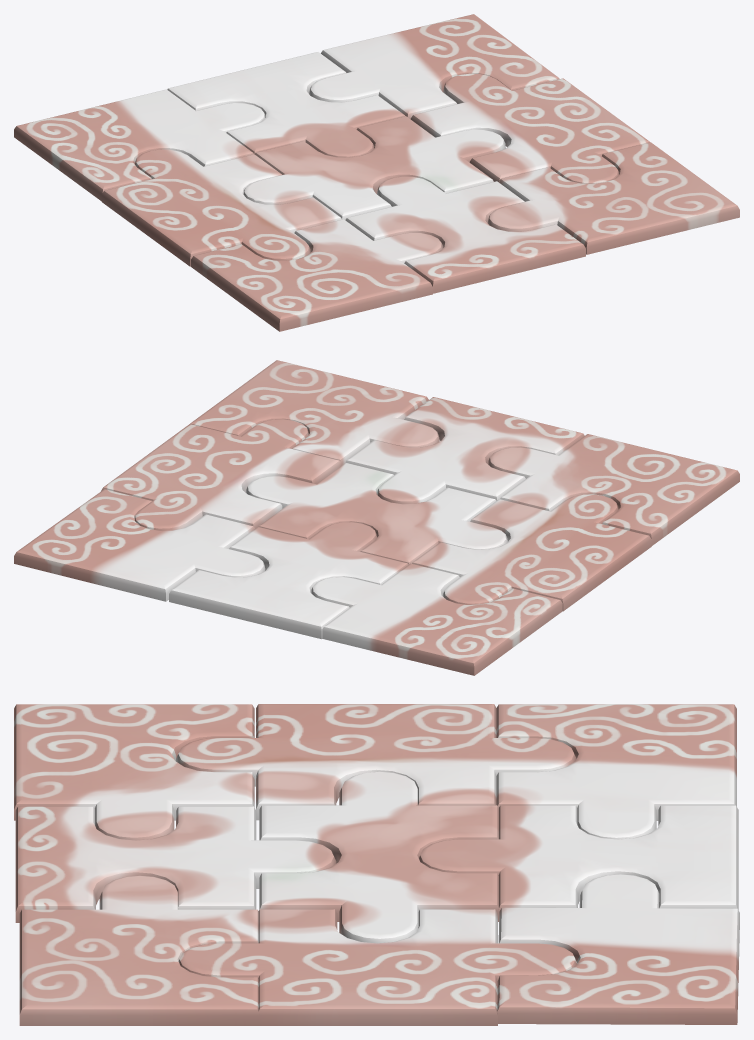
File: puzzle.glb
3 views of the same model, one above another, from view 1: azimuth 30°, elevation 25°; view 2: azimuth 150°, elevation 25°; view 3: azimuth 270°, elevation 25° (orthographic). The views are drawn at different scales.
Visible parts, largest first — view 1: bottomleft, midleft, bottomright, midright, topleft, bottommid, midmid, topright, topmid; view 2: topleft, midleft, topright, midright, bottomleft, topmid, bottomright, midmid, bottommid; view 3: midright, topright, bottomright, midleft, midmid, bottomleft, topleft, bottommid, topmid.
Part boxes in pixels (left/top/right/bottom): bottomleft: left=191, top=219, right=443, bottom=331; midleft: left=101, top=149, right=341, bottom=266; bottomright: left=487, top=142, right=739, bottom=254; midright: left=410, top=73, right=649, bottom=183; topleft: left=14, top=89, right=265, bottom=200; bottommid: left=345, top=176, right=585, bottom=293; midmid: left=243, top=116, right=505, bottom=219; topright: left=309, top=14, right=559, bottom=118; topmid: left=167, top=52, right=404, bottom=157; topleft: left=311, top=563, right=562, bottom=675; midleft: left=412, top=494, right=651, bottom=611; topright: left=14, top=489, right=265, bottom=601; midright: left=101, top=419, right=341, bottom=530; bottomleft: left=488, top=434, right=739, bottom=545; topmid: left=169, top=522, right=408, bottom=639; bottomright: left=190, top=360, right=439, bottom=464; midmid: left=246, top=462, right=507, bottom=564; bottommid: left=345, top=397, right=584, bottom=503; midright: left=178, top=909, right=577, bottom=1025; topright: left=497, top=874, right=739, bottom=1024; bottomright: left=19, top=875, right=260, bottom=1025; midleft: left=176, top=704, right=576, bottom=820; midmid: left=259, top=771, right=498, bottom=943; bottomleft: left=14, top=704, right=254, bottom=840; topleft: left=496, top=704, right=736, bottom=839; bottommid: left=15, top=806, right=336, bottom=922; topmid: left=419, top=805, right=738, bottom=921.
Bounding box in the file's own units: 3.02 × 0.0821 × 3.02.
2 materials, 1 textured.
